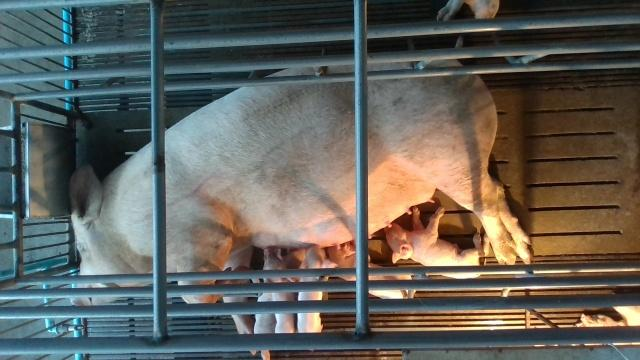piglet: (384, 205, 489, 281), (328, 240, 412, 299), (292, 244, 339, 333), (259, 244, 296, 333), (438, 0, 500, 25)
sow-sleep-lactate: (67, 59, 533, 360)
